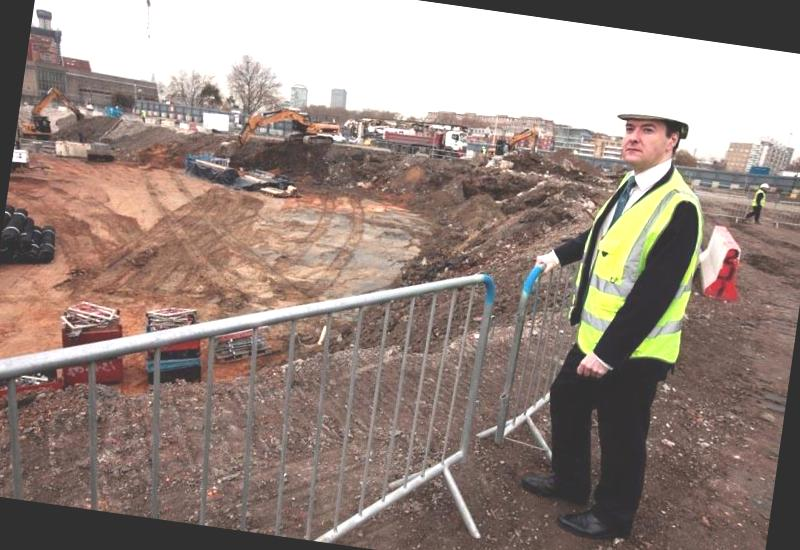helmet: (615, 76, 700, 134)
person: (524, 68, 733, 550)
